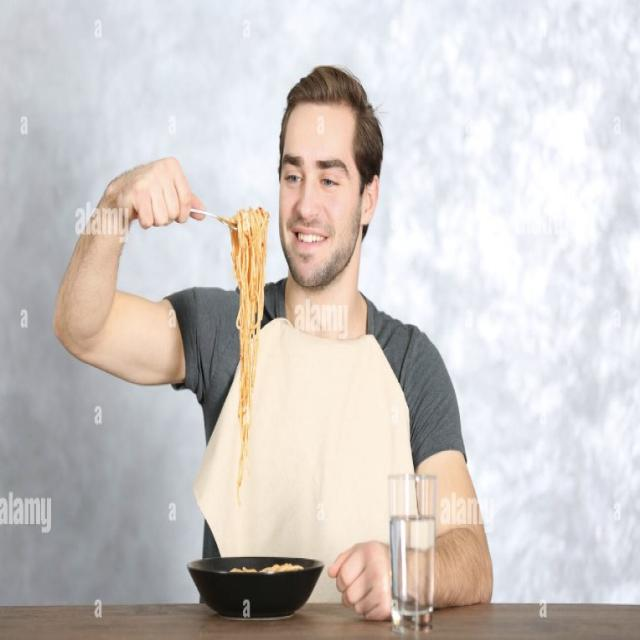eating-person: (46, 58, 504, 628)
